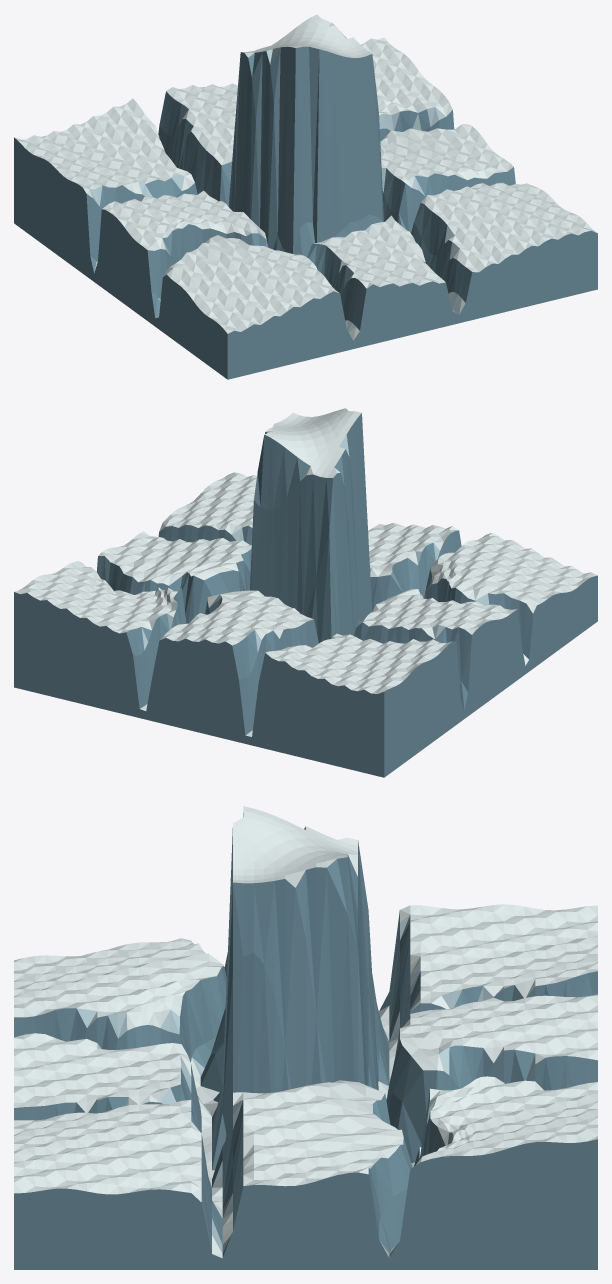
3 views of the same model, one above another, from view 1: azimuth 30°, elevation 25°; view 2: azimuth 150°, elevation 25°; view 3: azimuth 270°, elevation 25° (orthographic). The views are drawn at different scales.
Parts seen in each view (by area): view 1: continuous_glacier_angular_tower_two_crossing_crevasse_syste; view 2: continuous_glacier_angular_tower_two_crossing_crevasse_syste; view 3: continuous_glacier_angular_tower_two_crossing_crevasse_syste.
Boxes of the visible parts, x1,y1,x2,y2 form: continuous_glacier_angular_tower_two_crossing_crevasse_syste: [14, 14, 597, 379]; continuous_glacier_angular_tower_two_crossing_crevasse_syste: [14, 408, 597, 777]; continuous_glacier_angular_tower_two_crossing_crevasse_syste: [14, 806, 597, 1269].
Size of the model in its own units: 30 by 18.04 by 30.
